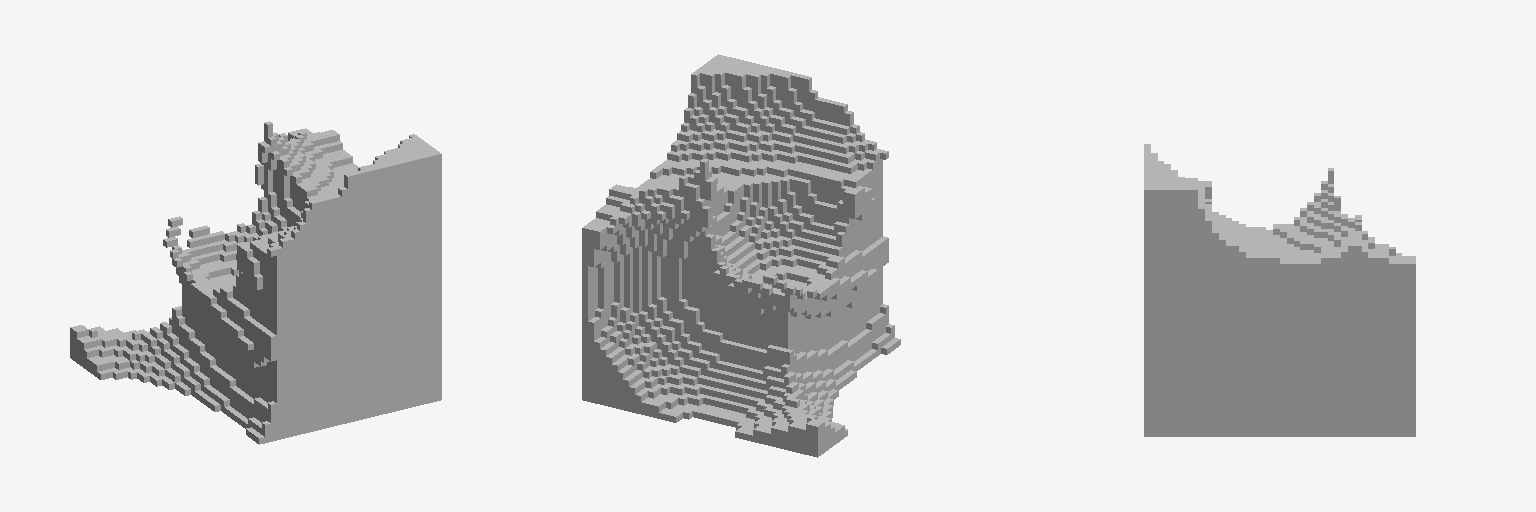
Rendered from mountain 1.obj.
3 renders of one model, left to right at view 1: azimuth 30°, elevation 25°; view 2: azimuth 150°, elevation 25°; view 3: azimuth 270°, elevation 25°, orthographic.
Parts seen in each view (by area): view 1: object 1; view 2: object 1; view 3: object 1.
Part boxes in pixels (left/top/right/bottom): object 1: left=70, top=121, right=441, bottom=444; object 1: left=582, top=54, right=900, bottom=457; object 1: left=1144, top=144, right=1415, bottom=436.
Bounding box in the file's own units: 16 × 16 × 16.